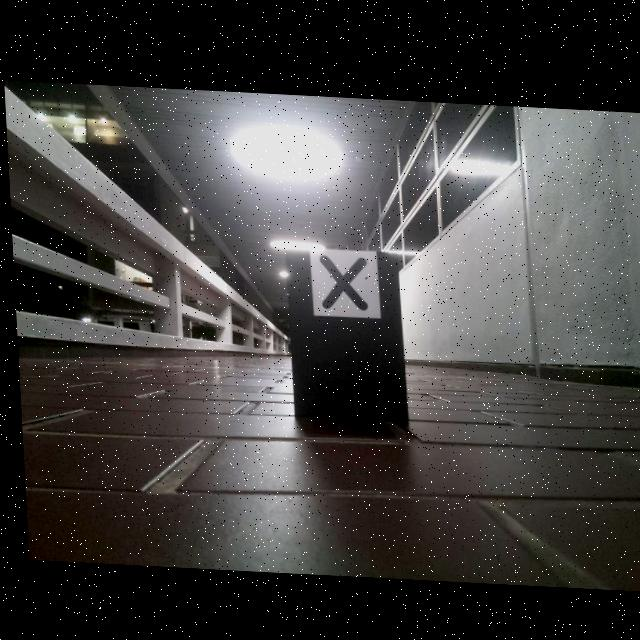X: (317, 252, 367, 308)
